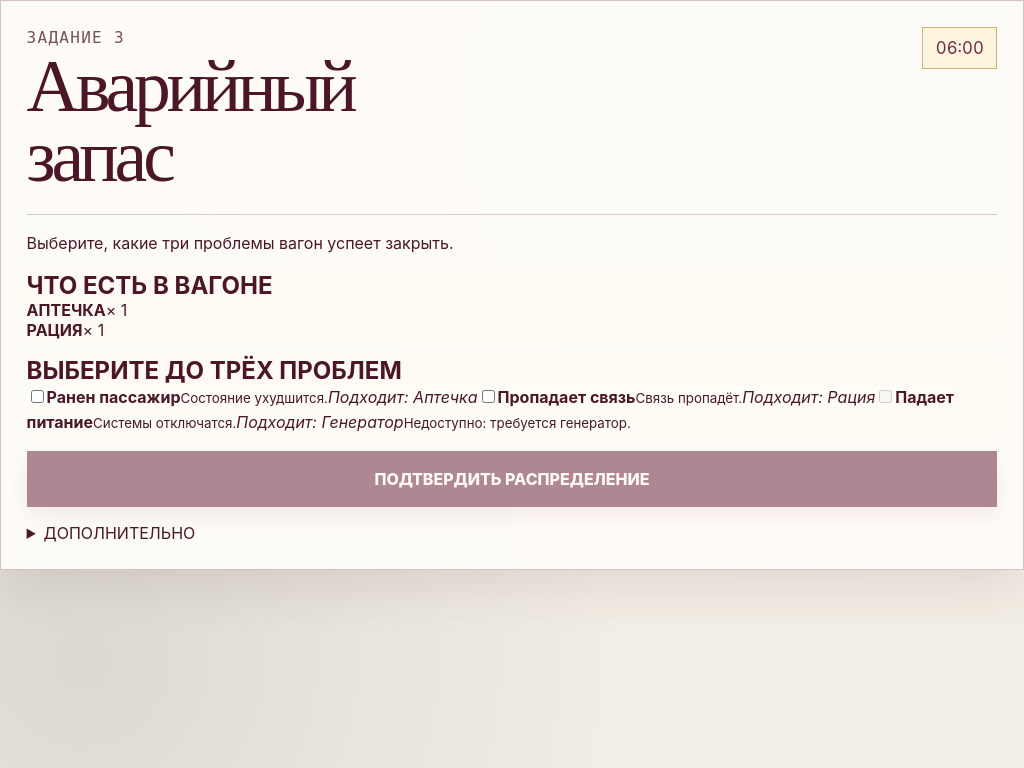
Test case: MissionThreePlayer › keeps the captain selection and restores confirmation after a rejected command
Click the checkbox labelled "Ранен пассажир" at (37, 397), box [31,390,44,403]
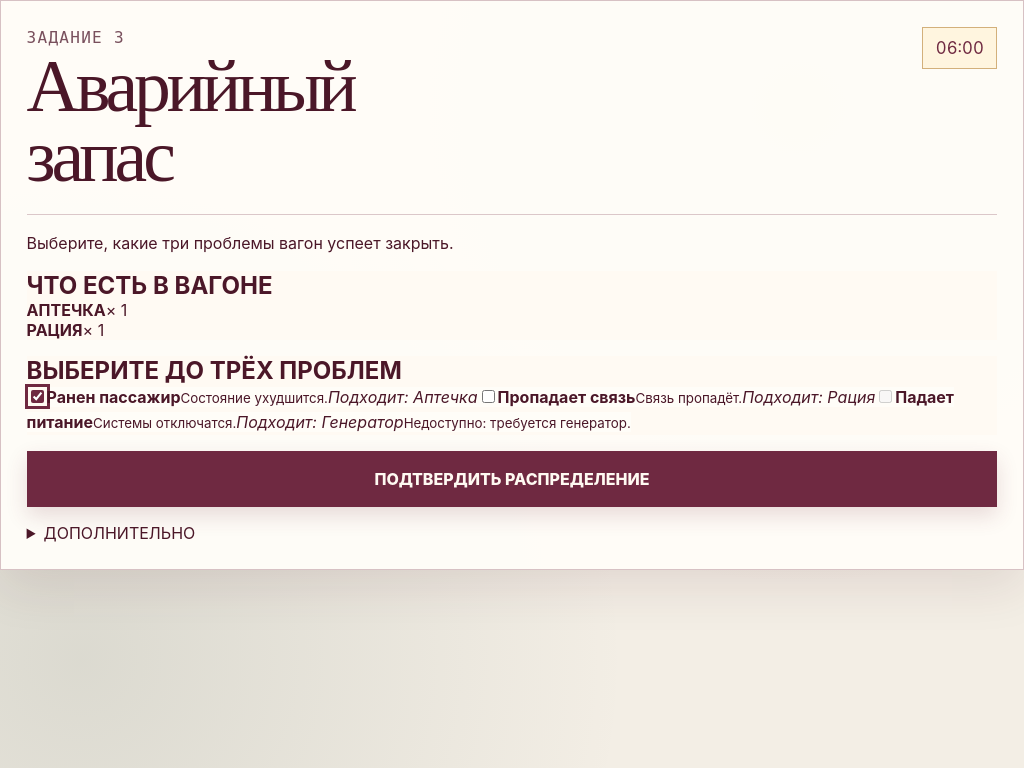
Click the button "ПОДТВЕРДИТЬ РАСПРЕДЕЛЕНИЕ" at (512, 479), box [27,451,997,507]
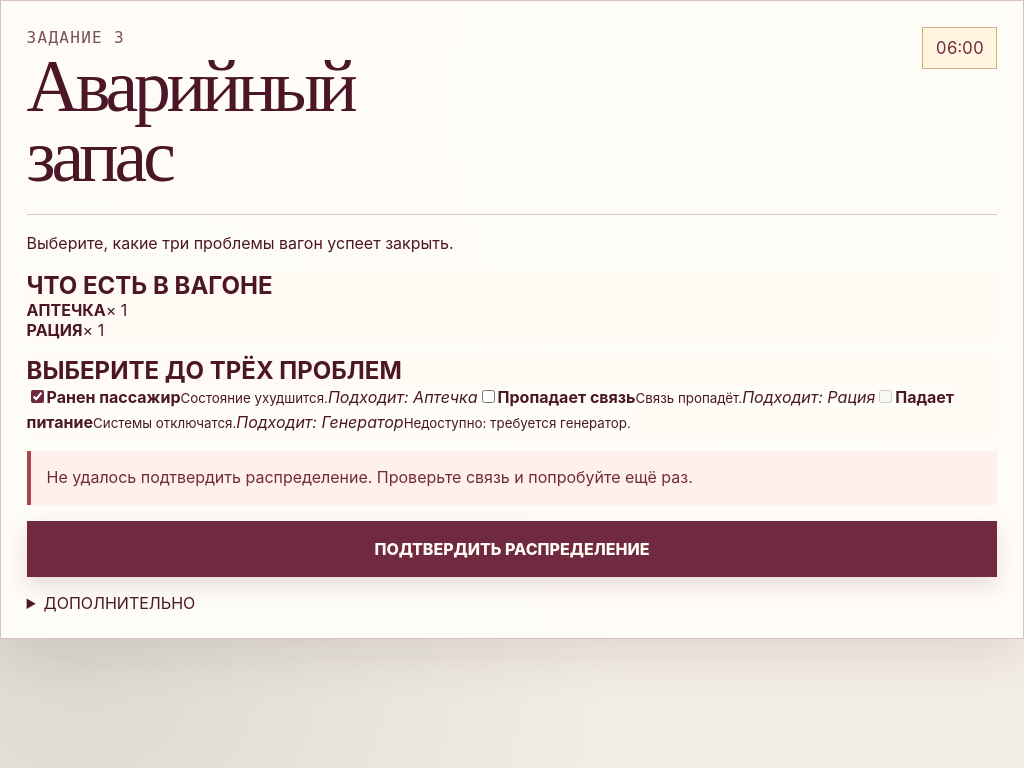
expect the checkbox labelled "Ранен пассажир" is checked: met, box [31,390,44,403]
expect the button "ПОДТВЕРДИТЬ РАСПРЕДЕЛЕНИЕ" is enabled: met, box [27,521,997,577]
expect the message reads "Не удалось подтвердить распределение. Проверьте связь и попробуйте ещё раз.": met, box [47,467,693,487]
